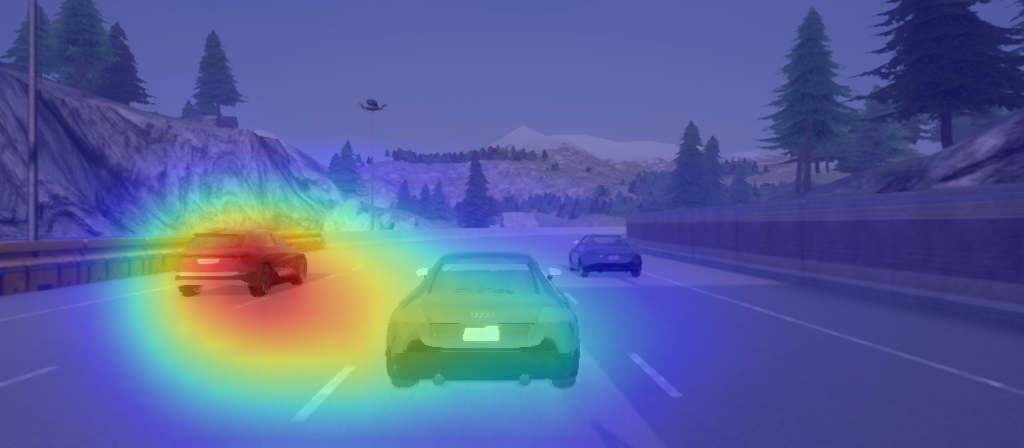Barrier: (671, 201, 1010, 267), (11, 246, 169, 276)
Car: (382, 248, 586, 393), (172, 225, 311, 302), (568, 231, 647, 281)
Lane Marker: (285, 361, 361, 428), (620, 347, 693, 403), (6, 360, 59, 394), (321, 269, 347, 282)
Light Pole: (24, 4, 46, 240), (354, 93, 391, 231)
